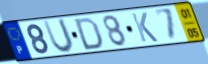7: (153, 8, 178, 43)
8: (102, 14, 128, 48), (26, 23, 51, 56)
D: (74, 16, 105, 51)
K: (130, 12, 160, 44)
U: (42, 18, 77, 55)
